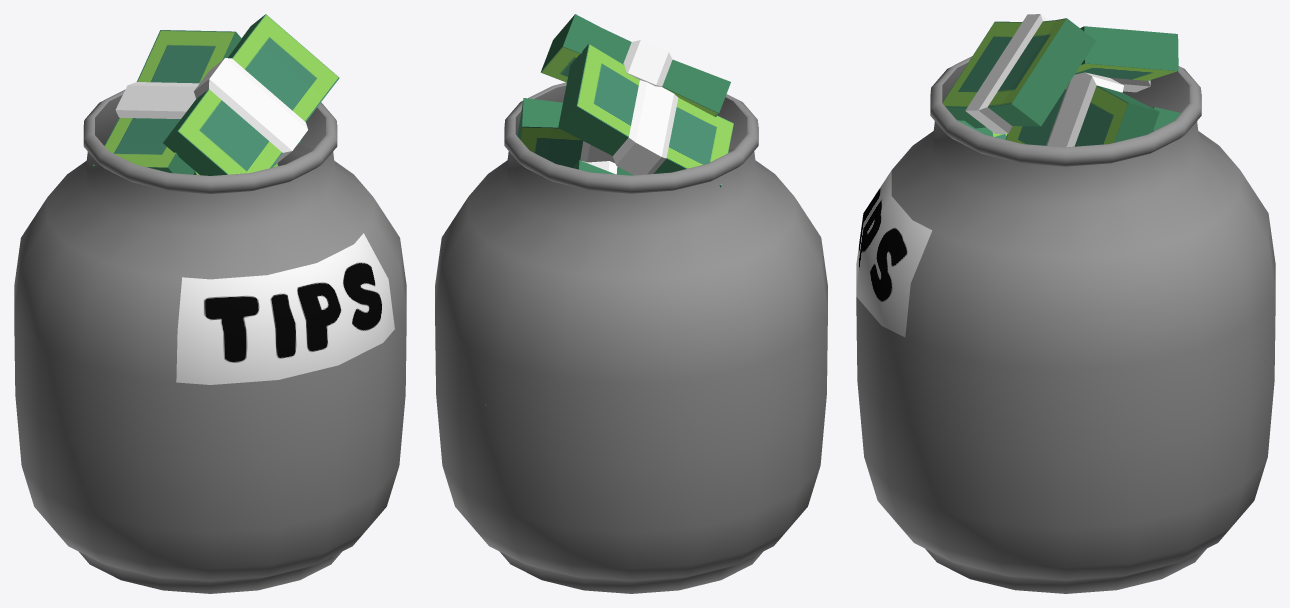
File: CashJar_full.fbx
The picture shows the model from 3 angles, left to right: view 1: azimuth 30°, elevation 25°; view 2: azimuth 150°, elevation 25°; view 3: azimuth 270°, elevation 25°; orthographic projection. The views are drawn at different scales.
Parts seen in each view (by area): view 1: CashJar_full; view 2: CashJar_full; view 3: CashJar_full.
Part boxes in pixels (bbox=[...]): CashJar_full: bbox=[14, 14, 406, 593]; CashJar_full: bbox=[435, 14, 827, 593]; CashJar_full: bbox=[856, 14, 1275, 593].
Bounding box in the file's own units: 44.98 × 63.14 × 44.3.
3 materials, 2 textured.
